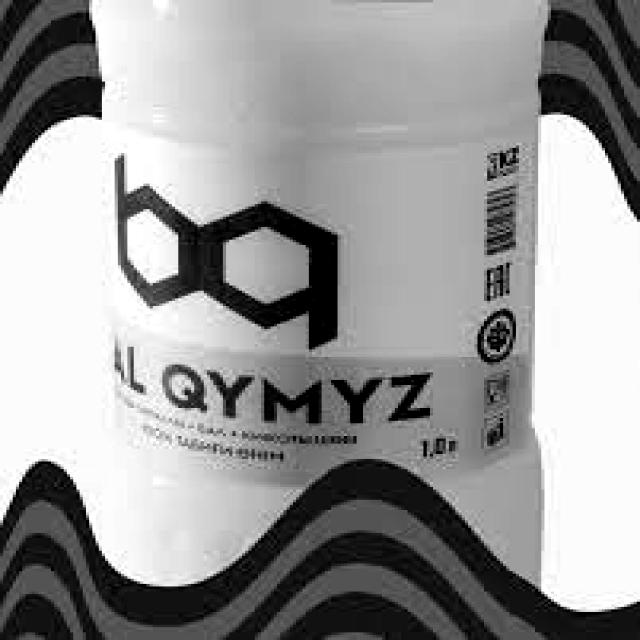balqymyz: (87, 145, 438, 473)
